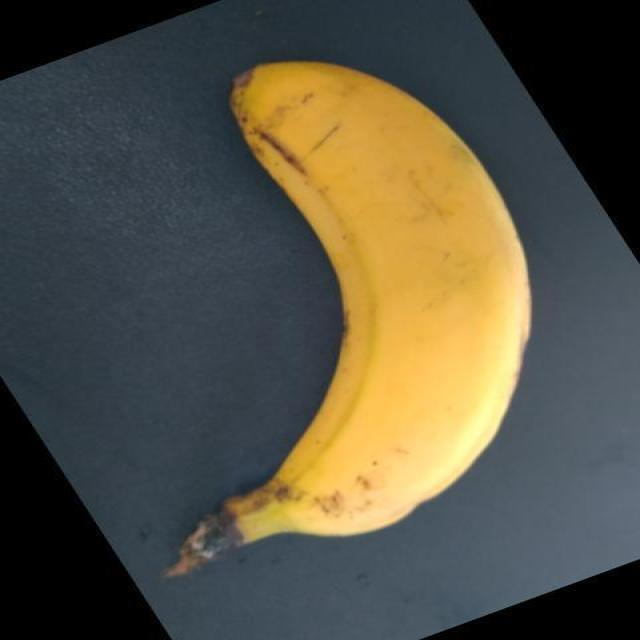Madura: (174, 49, 538, 534)
